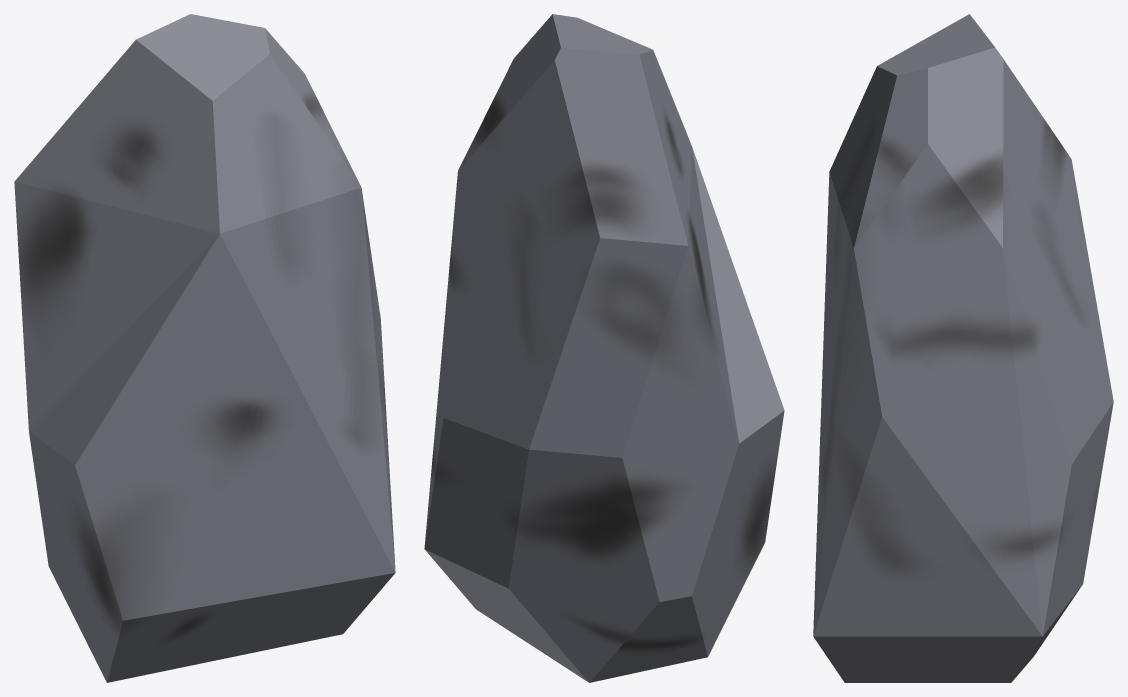
The model's file is Iron.fbx.
3 views of the same model, side by side, from view 1: azimuth 30°, elevation 25°; view 2: azimuth 150°, elevation 25°; view 3: azimuth 270°, elevation 25° (orthographic). The views are drawn at different scales.
Visible parts, largest first — view 1: Icosphere; view 2: Icosphere; view 3: Icosphere.
Boxes of the visible parts, box(x1,y1,x2,y2) form: Icosphere: box(14, 14, 395, 682); Icosphere: box(424, 14, 784, 682); Icosphere: box(813, 14, 1113, 682).
Size of the model in its own units: 165 by 320 by 138.
